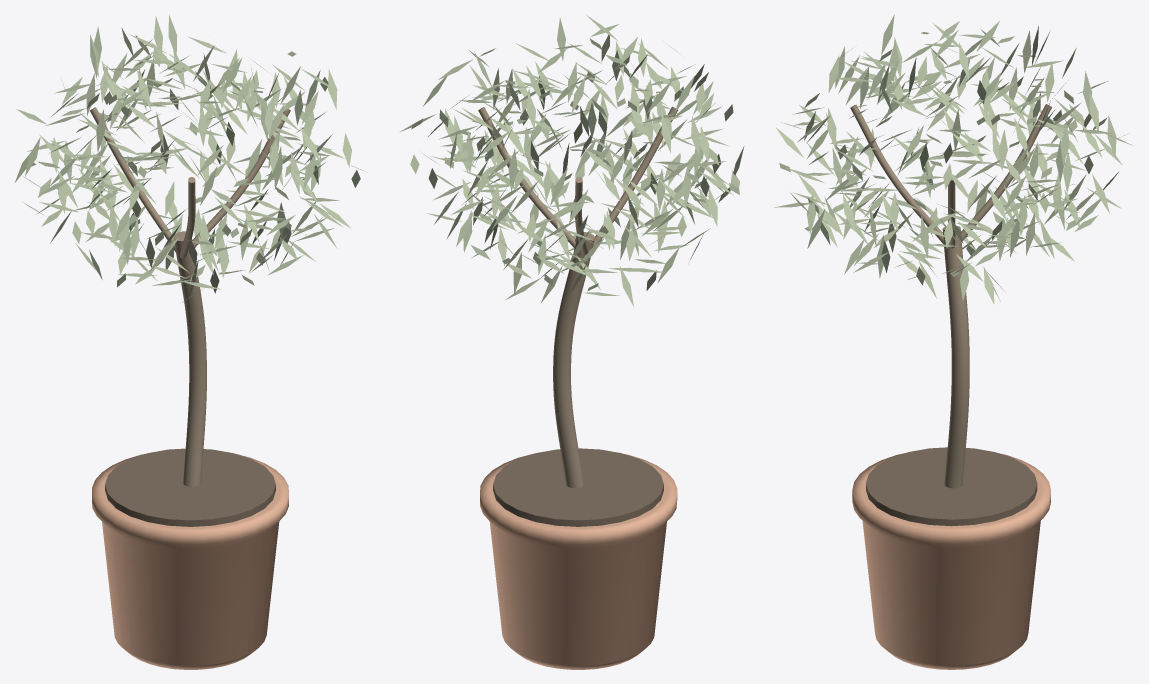
Rendered from plant_olive.glb.
3 renders of one model, left to right at view 1: azimuth 30°, elevation 25°; view 2: azimuth 150°, elevation 25°; view 3: azimuth 270°, elevation 25°, orthographic.
Parts seen in each view (by area): view 1: canopy, pot, soil, trunk, branch1, branch0, branch2; view 2: canopy, pot, soil, trunk, branch0, branch2; view 3: canopy, pot, soil, trunk, branch2, branch1.
Part boxes in pixels (x1=…): canopy: x1=15, y1=14, x2=367, y2=302; pot: x1=92, y1=454, x2=288, y2=669; soil: x1=105, y1=448, x2=275, y2=526; trunk: x1=174, y1=231, x2=206, y2=486; branch1: x1=90, y1=107, x2=175, y2=252; branch0: x1=192, y1=109, x2=290, y2=247; branch2: x1=179, y1=177, x2=195, y2=258; canopy: x1=400, y1=15, x2=744, y2=306; pot: x1=480, y1=454, x2=677, y2=669; soil: x1=493, y1=448, x2=663, y2=526; trunk: x1=553, y1=232, x2=594, y2=488; branch0: x1=478, y1=107, x2=575, y2=248; branch2: x1=593, y1=106, x2=677, y2=246; canopy: x1=774, y1=14, x2=1132, y2=304; pot: x1=852, y1=453, x2=1050, y2=669; soil: x1=866, y1=447, x2=1037, y2=526; trunk: x1=942, y1=226, x2=969, y2=488; branch2: x1=850, y1=104, x2=943, y2=244; branch1: x1=961, y1=104, x2=1051, y2=240.
Size of the model in its own units: 0.7952 by 1.47 by 0.8006.
